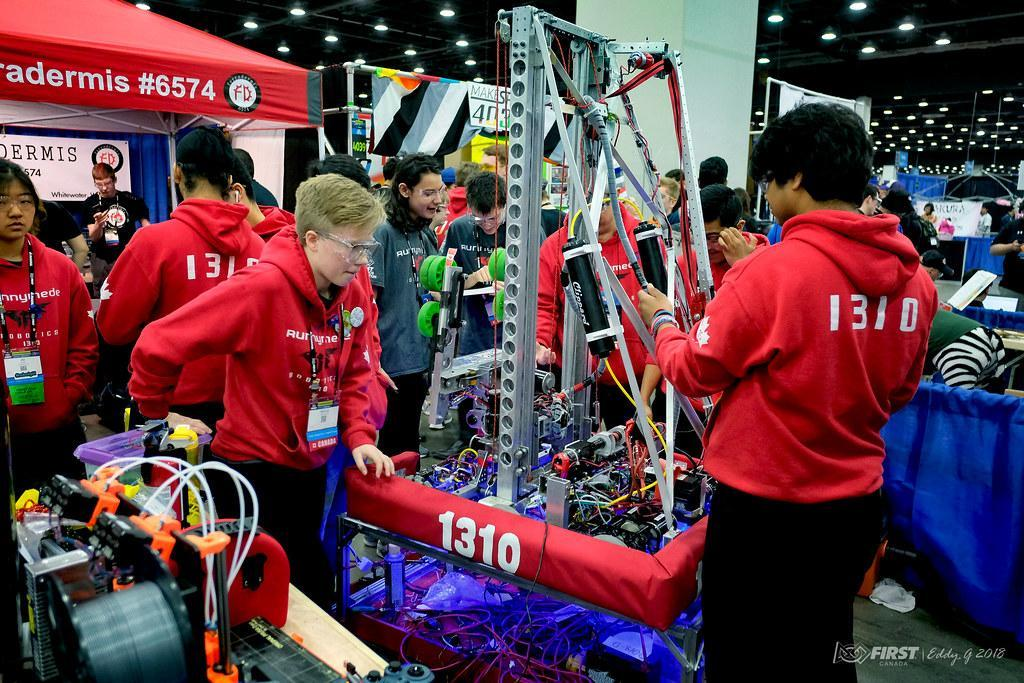robot: (343, 3, 747, 632), (0, 403, 447, 683)
